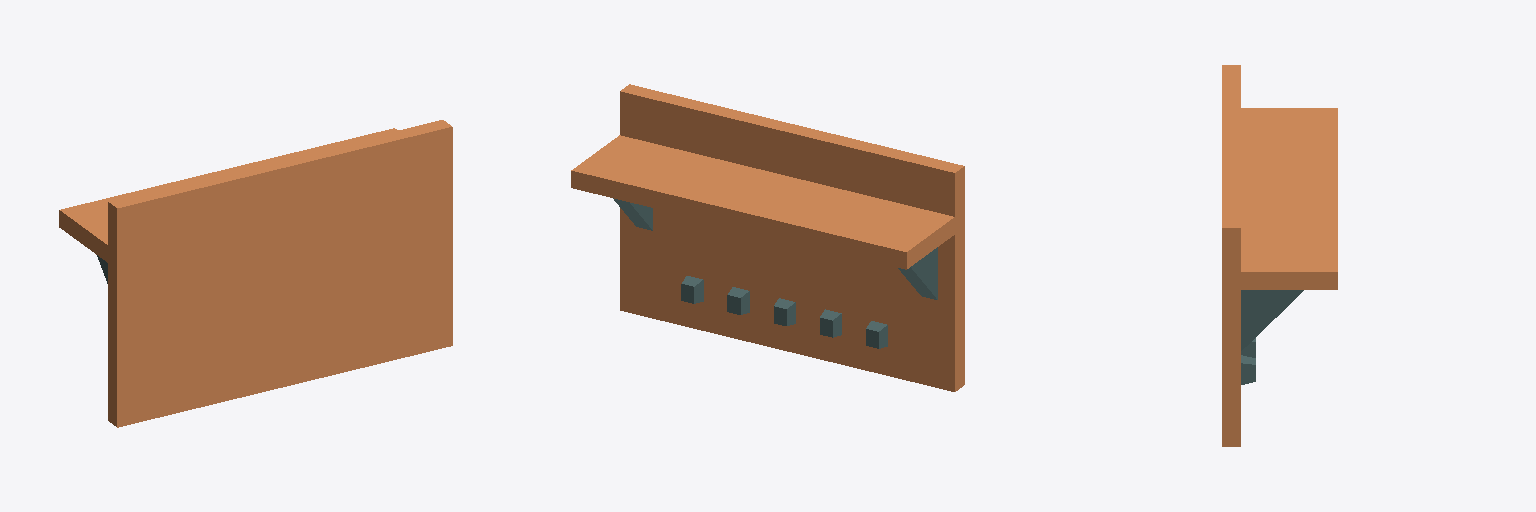
The model's file is coatRack.obj.
3 views of the same model, side by side, from view 1: azimuth 30°, elevation 25°; view 2: azimuth 150°, elevation 25°; view 3: azimuth 270°, elevation 25° (orthographic).
Visible parts, largest first — view 1: coatRack; view 2: coatRack; view 3: coatRack.
Part boxes in pixels (x1,y1,x2,y2): coatRack: (59,120,452,427); coatRack: (571,84,964,391); coatRack: (1222,65,1337,446).
Bounding box in the file's own units: 0.448 × 0.28 × 0.1344.